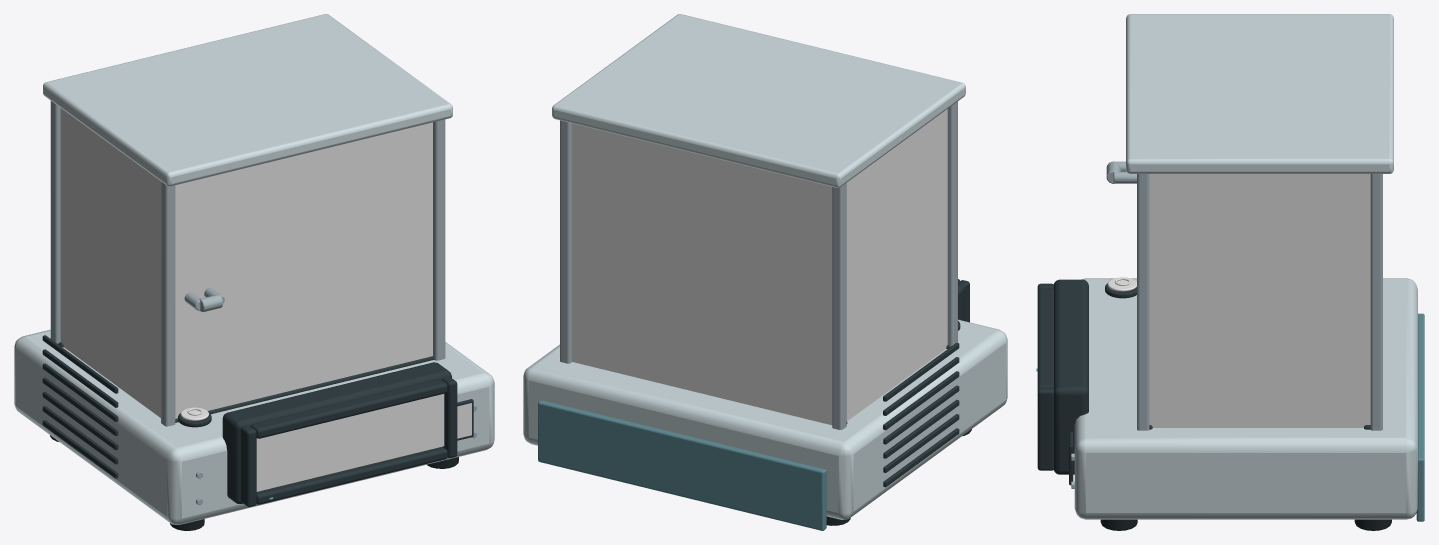
The model's file is ID_PrecisionBalance.fbx.
The picture shows the model from 3 angles, left to right: view 1: azimuth 30°, elevation 25°; view 2: azimuth 150°, elevation 25°; view 3: azimuth 270°, elevation 25°; orthographic projection. The views are drawn at different scales.
Visible parts, largest first — view 1: ID_PrecisionBalance; view 2: ID_PrecisionBalance; view 3: ID_PrecisionBalance.
Boxes of the visible parts, x1,y1,x2,y2 form: ID_PrecisionBalance: [14, 14, 494, 530]; ID_PrecisionBalance: [523, 14, 1007, 530]; ID_PrecisionBalance: [1036, 14, 1424, 530].
Bounding box in the file's own units: 58.5 × 59.7 × 56.6.
